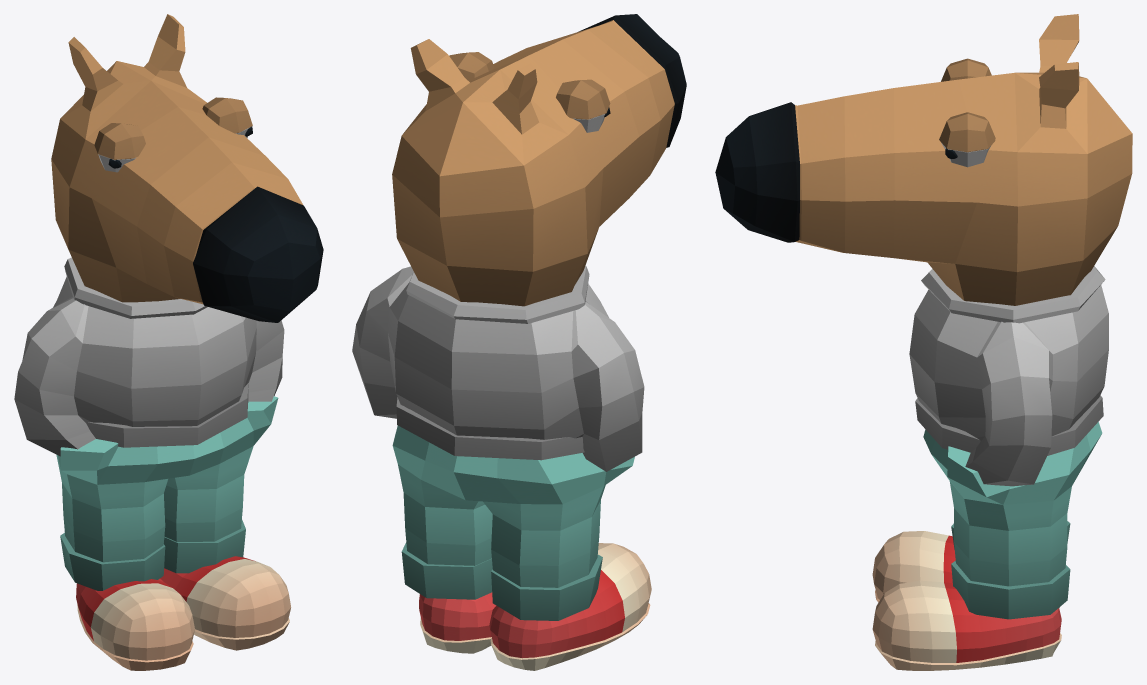
The model's file is ChillGuy.fbx.
3 views of the same model, side by side, from view 1: azimuth 30°, elevation 25°; view 2: azimuth 150°, elevation 25°; view 3: azimuth 270°, elevation 25° (orthographic). The views are drawn at different scales.
Visible parts, largest first — view 1: ChillGuy; view 2: ChillGuy; view 3: ChillGuy.
Part boxes in pixels (<box>): ChillGuy: <box>14,14,323,670</box>; ChillGuy: <box>352,14,686,670</box>; ChillGuy: <box>715,14,1132,670</box>.
Size of the model in its own units: 182 by 371 by 235.
